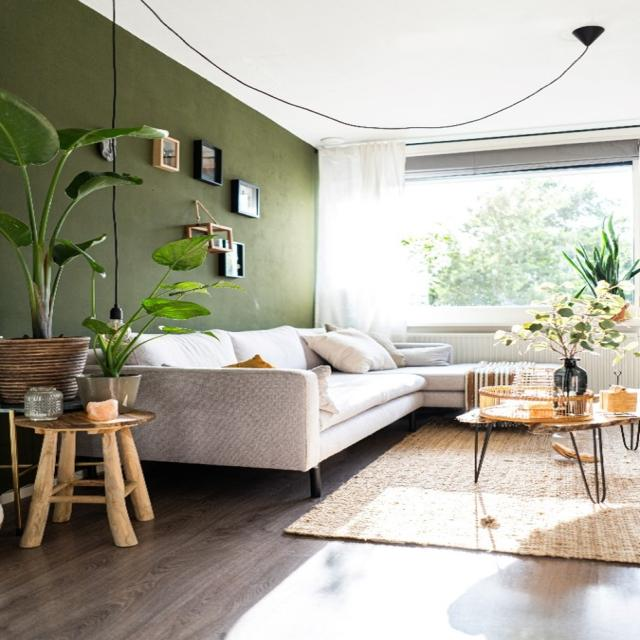vintage sofa: (63, 319, 535, 493)
